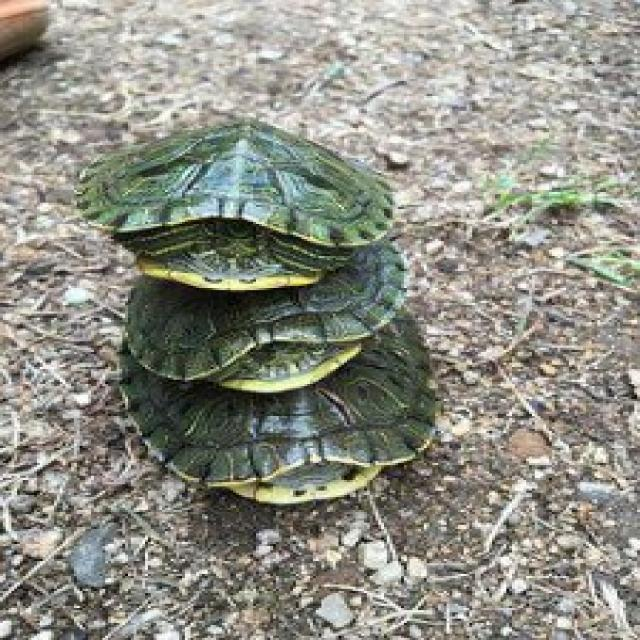Sea turtle: (120, 402, 526, 538), (51, 133, 408, 263), (96, 303, 561, 385)
